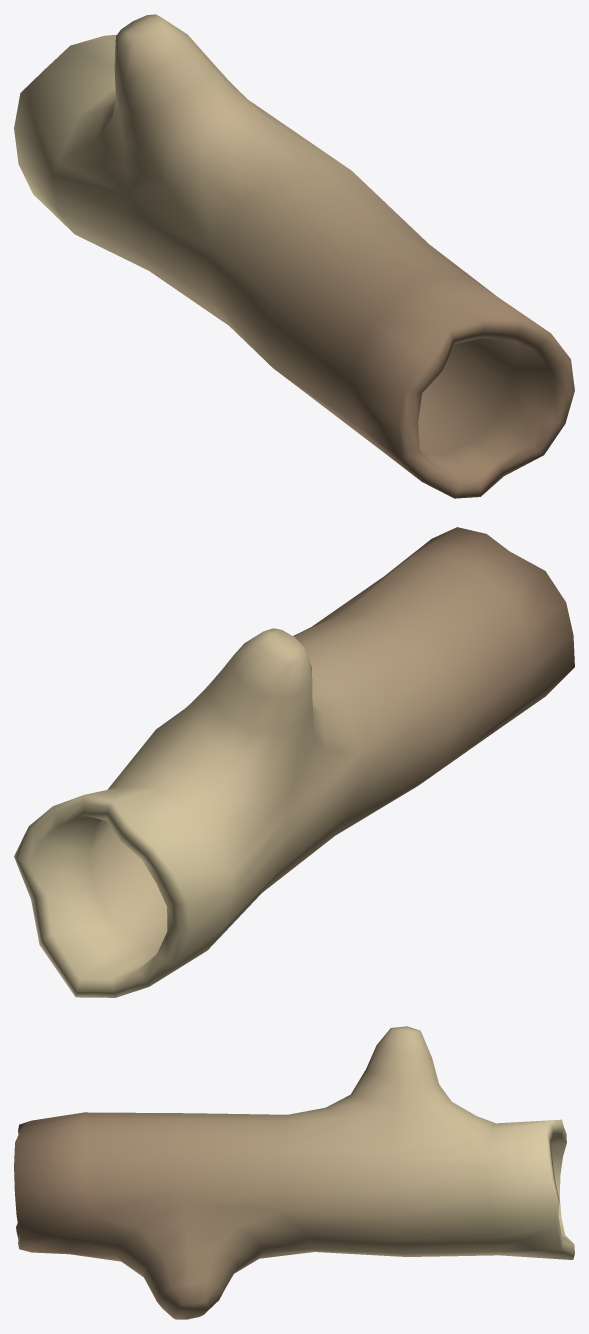
Rendered from WoodenLog-2.fbx.
The picture shows the model from 3 angles, top to bottom: view 1: azimuth 30°, elevation 25°; view 2: azimuth 150°, elevation 25°; view 3: azimuth 270°, elevation 25°; orthographic projection. The views are drawn at different scales.
Parts seen in each view (by area): view 1: Wood.002; view 2: Wood.002; view 3: Wood.002.
Boxes of the visible parts, x1,y1,x2,y2 form: Wood.002: (14, 14, 574, 498); Wood.002: (14, 527, 574, 997); Wood.002: (14, 1026, 574, 1319).
Size of the model in its own units: 89.12 by 125 by 266.
